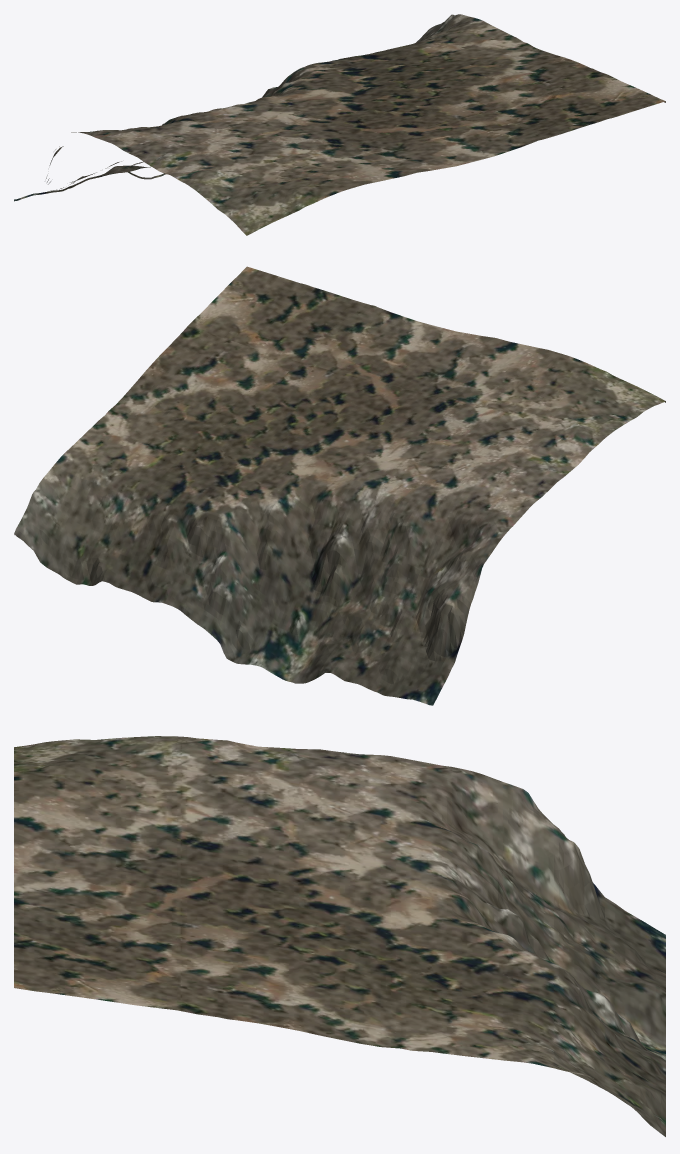
3 views of the same model, one above another, from view 1: azimuth 30°, elevation 25°; view 2: azimuth 150°, elevation 25°; view 3: azimuth 270°, elevation 25° (orthographic). The views are drawn at different scales.
Size of the model in its own units: 250 by 102 by 241.
1 material, 1 textured.
